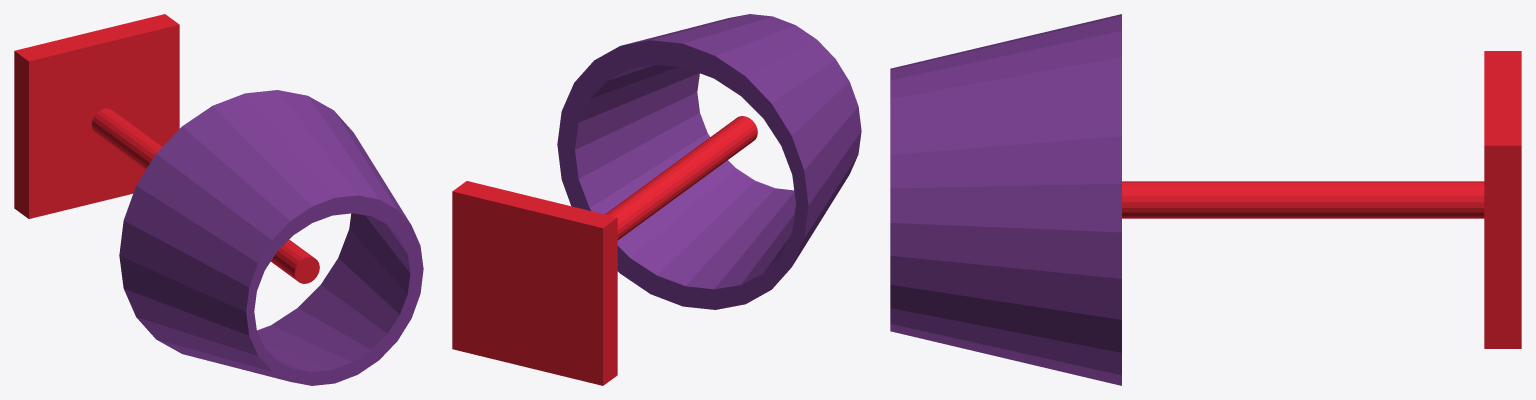
The model's file is tinker.obj.
3 views of the same model, side by side, from view 1: azimuth 30°, elevation 25°; view 2: azimuth 150°, elevation 25°; view 3: azimuth 270°, elevation 25° (orthographic). The views are drawn at different scales.
Parts seen in each view (by area): view 1: group_0_8273816, group_0_15277357; view 2: group_0_8273816, group_0_15277357; view 3: group_0_8273816, group_0_15277357.
Boxes of the visible parts, x1,y1,x2,y2 form: group_0_8273816: (119,90,423,385); group_0_15277357: (14,14,319,283); group_0_8273816: (557,14,861,309); group_0_15277357: (452,116,757,385); group_0_8273816: (890,14,1121,385); group_0_15277357: (1122,51,1521,348).
Bounding box in the file's own units: 100 × 100 × 169.
